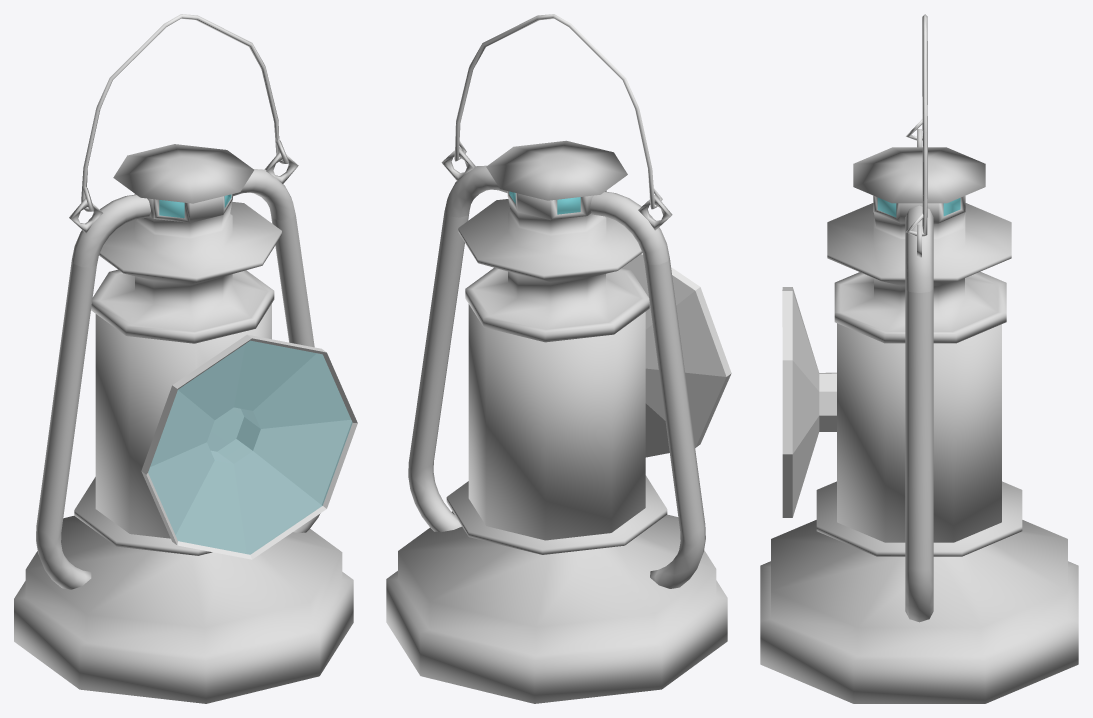
The model's file is oilFlashlight.fbx.
3 views of the same model, side by side, from view 1: azimuth 30°, elevation 25°; view 2: azimuth 150°, elevation 25°; view 3: azimuth 270°, elevation 25° (orthographic).
Visible parts, largest first — view 1: Oil lamp2.2, Handle2; view 2: Oil lamp2.2, Handle2; view 3: Oil lamp2.2, Handle2.
Boxes of the visible parts, left/top/right/bottom form: Oil lamp2.2: left=14, top=144, right=357, bottom=703; Handle2: left=81, top=14, right=288, bottom=211; Oil lamp2.2: left=386, top=140, right=731, bottom=703; Handle2: left=454, top=14, right=662, bottom=209; Oil lamp2.2: left=760, top=129, right=1078, bottom=703; Handle2: left=906, top=14, right=927, bottom=236.
Size of the model in its own units: 1.97 by 3.97 by 1.85.
